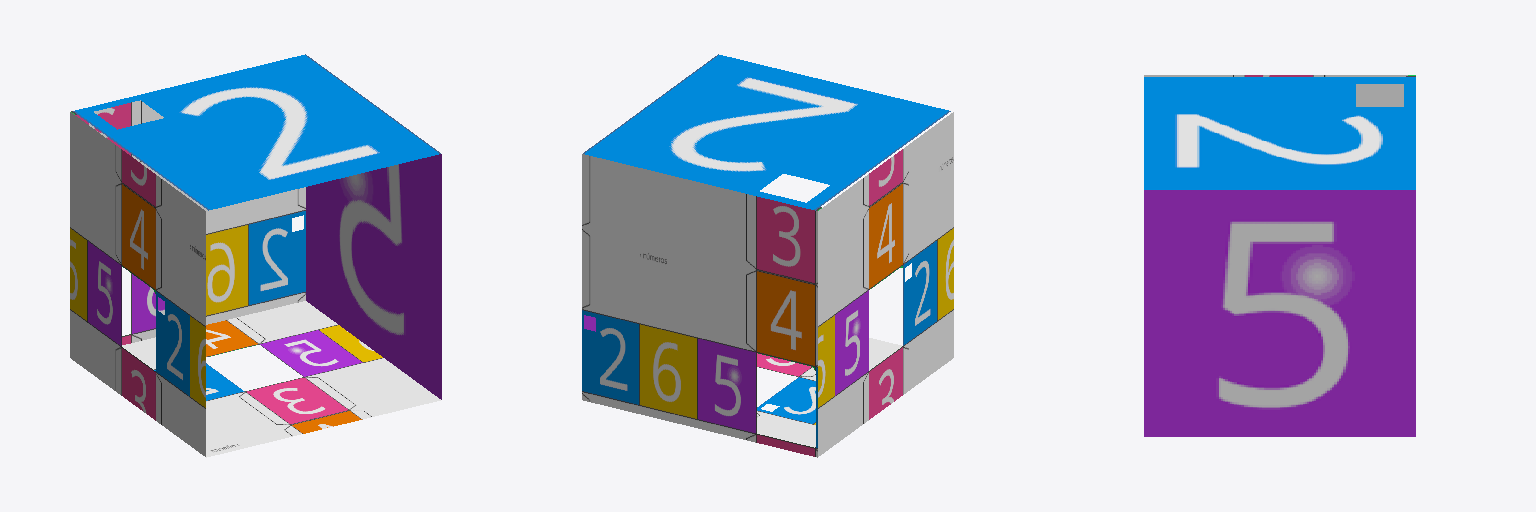
3 views of the same model, side by side, from view 1: azimuth 30°, elevation 25°; view 2: azimuth 150°, elevation 25°; view 3: azimuth 270°, elevation 25° (orthographic).
Parts seen in each view (by area): view 1: Box001; view 2: Box001; view 3: Box001.
Boxes of the visible parts, x1=… form: Box001: x1=70, y1=54, x2=441, y2=457; Box001: x1=582, y1=54, x2=953, y2=457; Box001: x1=1144, y1=75, x2=1415, y2=436.
Bounding box in the file's own units: 10 × 10 × 10.
1 materials, 1 textured.